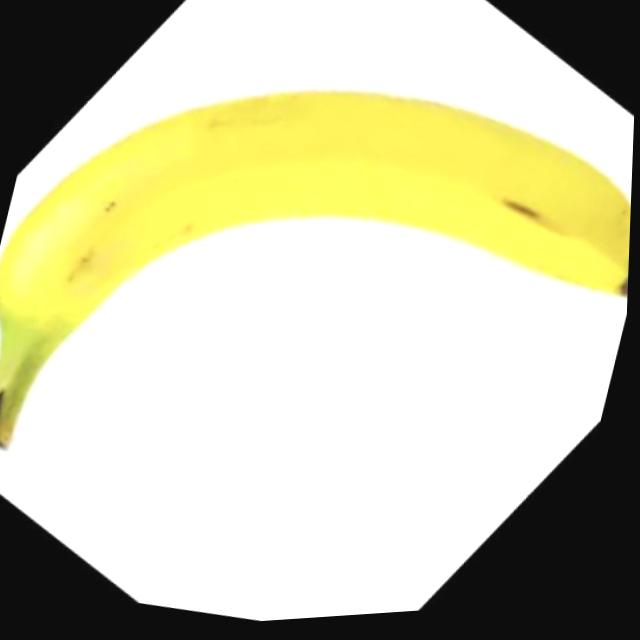Banana: (0, 13, 639, 578)
